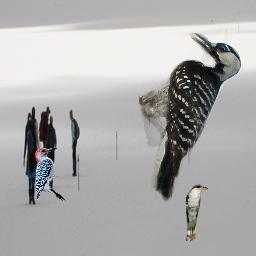Cuckoo: (185, 184, 208, 241)
Woodpecker: (139, 33, 243, 202), (32, 145, 68, 205)
